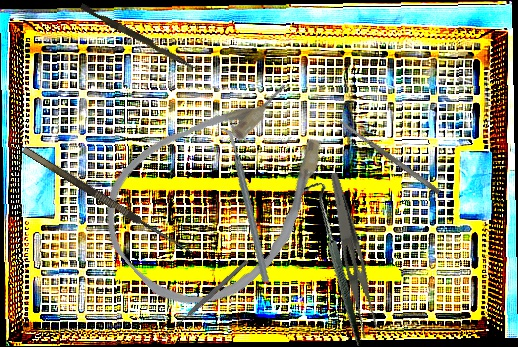Cannula: (78, 51, 368, 336)
Chopper: (195, 127, 295, 283)
Dressing Forceps: (312, 171, 387, 340)
Hook Surgical: (21, 137, 201, 258), (272, 179, 394, 347)
Pusher: (78, 3, 201, 72)
Spatula Surgical: (337, 117, 442, 196)
Surgical Spoon: (161, 258, 250, 340)
